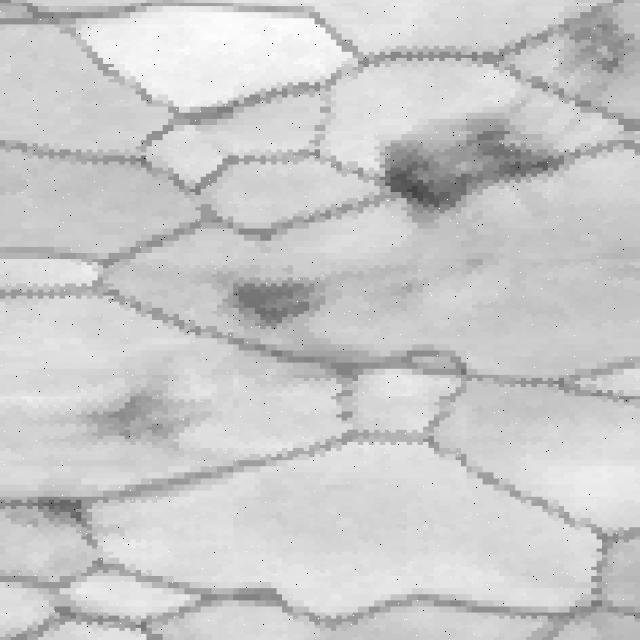good_void: (370, 103, 596, 237), (202, 262, 358, 339), (85, 382, 220, 452), (538, 0, 640, 92), (30, 486, 107, 534)
